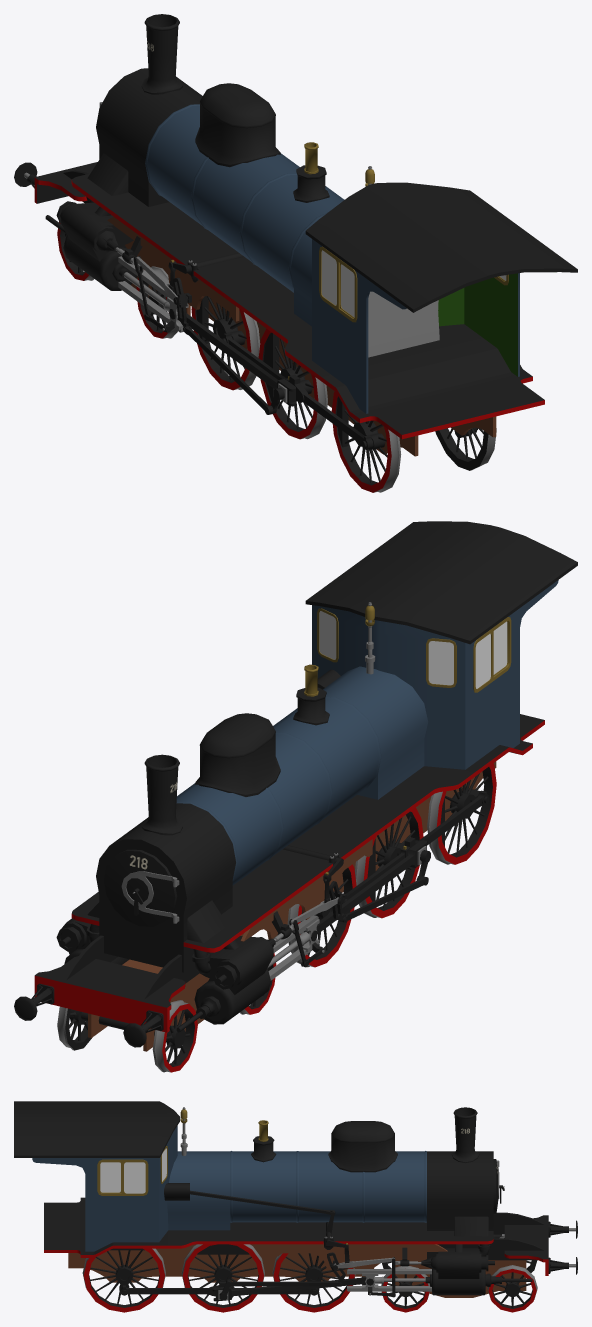
The model's file is SM_NSBType27.fbx.
3 views of the same model, one above another, from view 1: azimuth 30°, elevation 25°; view 2: azimuth 150°, elevation 25°; view 3: azimuth 270°, elevation 25° (orthographic). The views are drawn at different scales.
Parts seen in each view (by area): view 1: SM_NSBType27; view 2: SM_NSBType27; view 3: SM_NSBType27.
Boxes of the visible parts, left/top/right/bottom form: SM_NSBType27: left=14, top=14, right=577, bottom=492; SM_NSBType27: left=14, top=521, right=577, bottom=1072; SM_NSBType27: left=14, top=1101, right=577, bottom=1312.
Bounding box in the file's own units: 277 × 409 × 1109.
